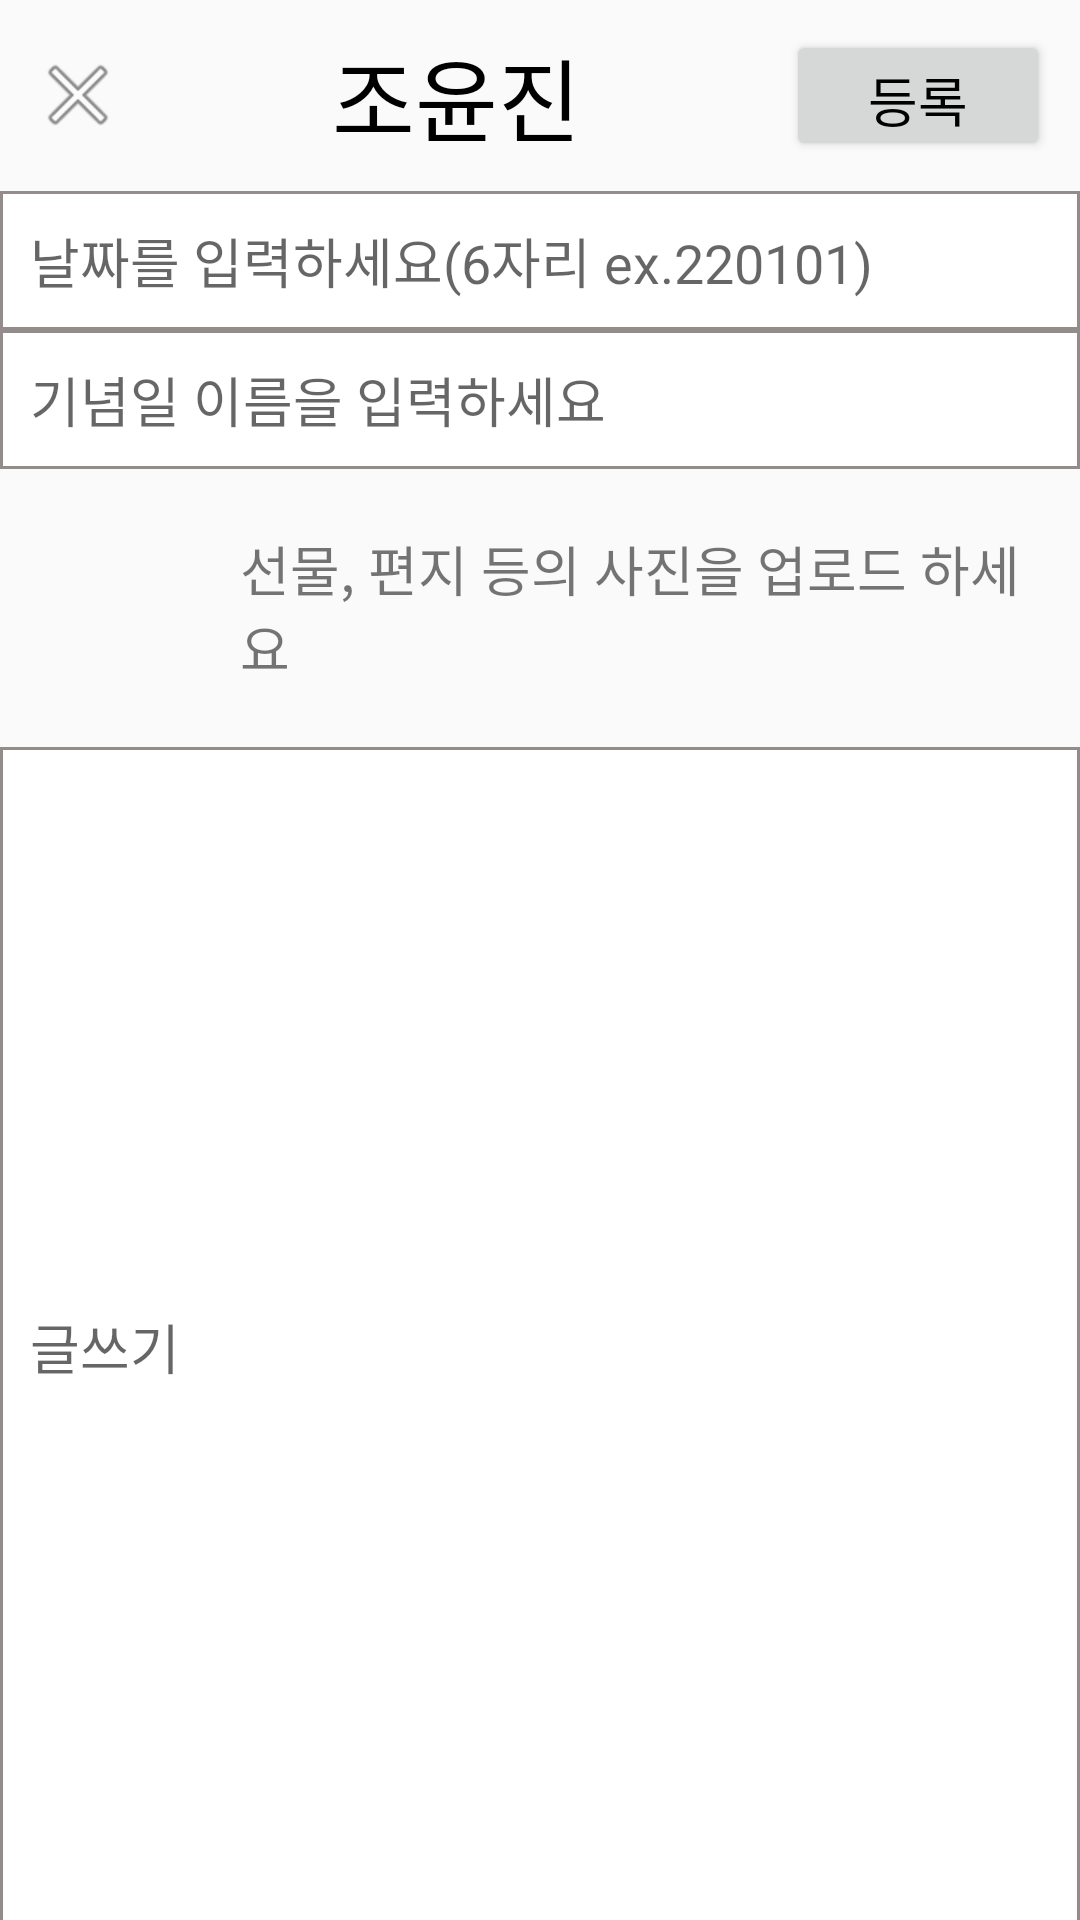

Point at icon controls on the screen. Image size 1080w x 1920h, points as (x,y).
close clear cancel: (78,95)
